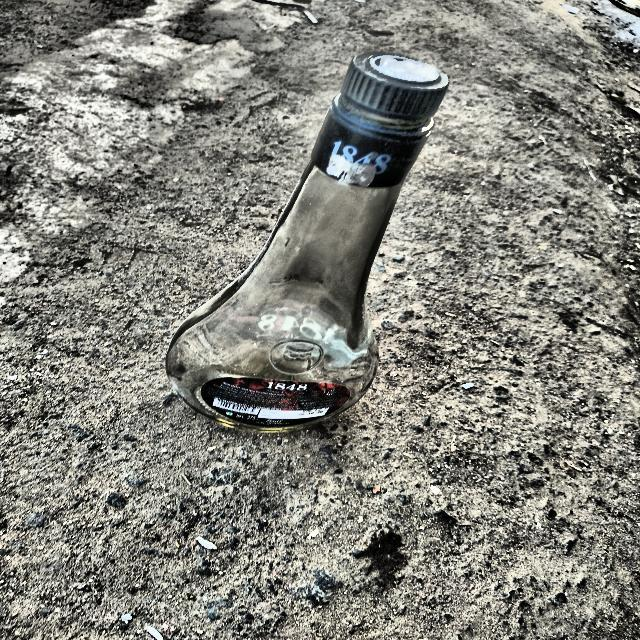anorganik: (165, 53, 449, 433)
